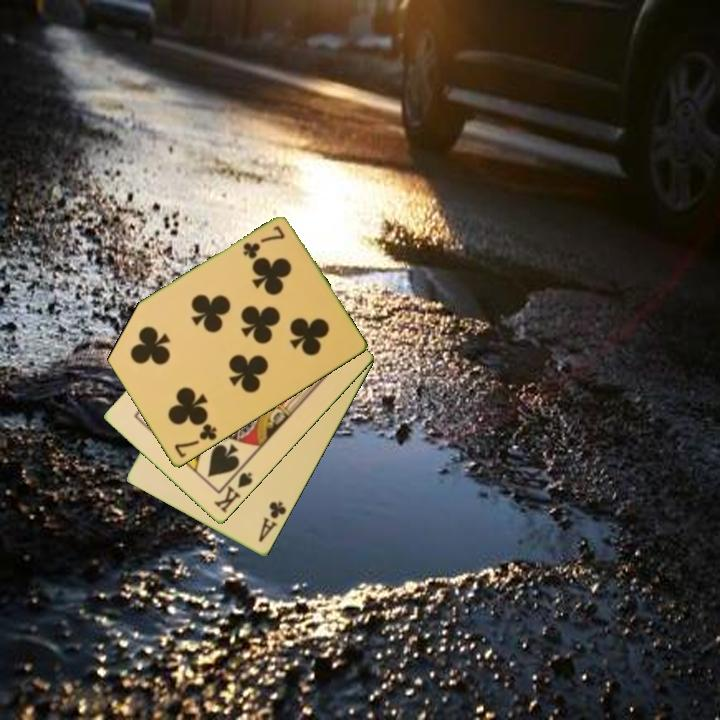7c: (171, 421, 220, 461), (239, 222, 288, 262)
Ac: (255, 498, 289, 545)
Ks: (211, 464, 256, 517)
